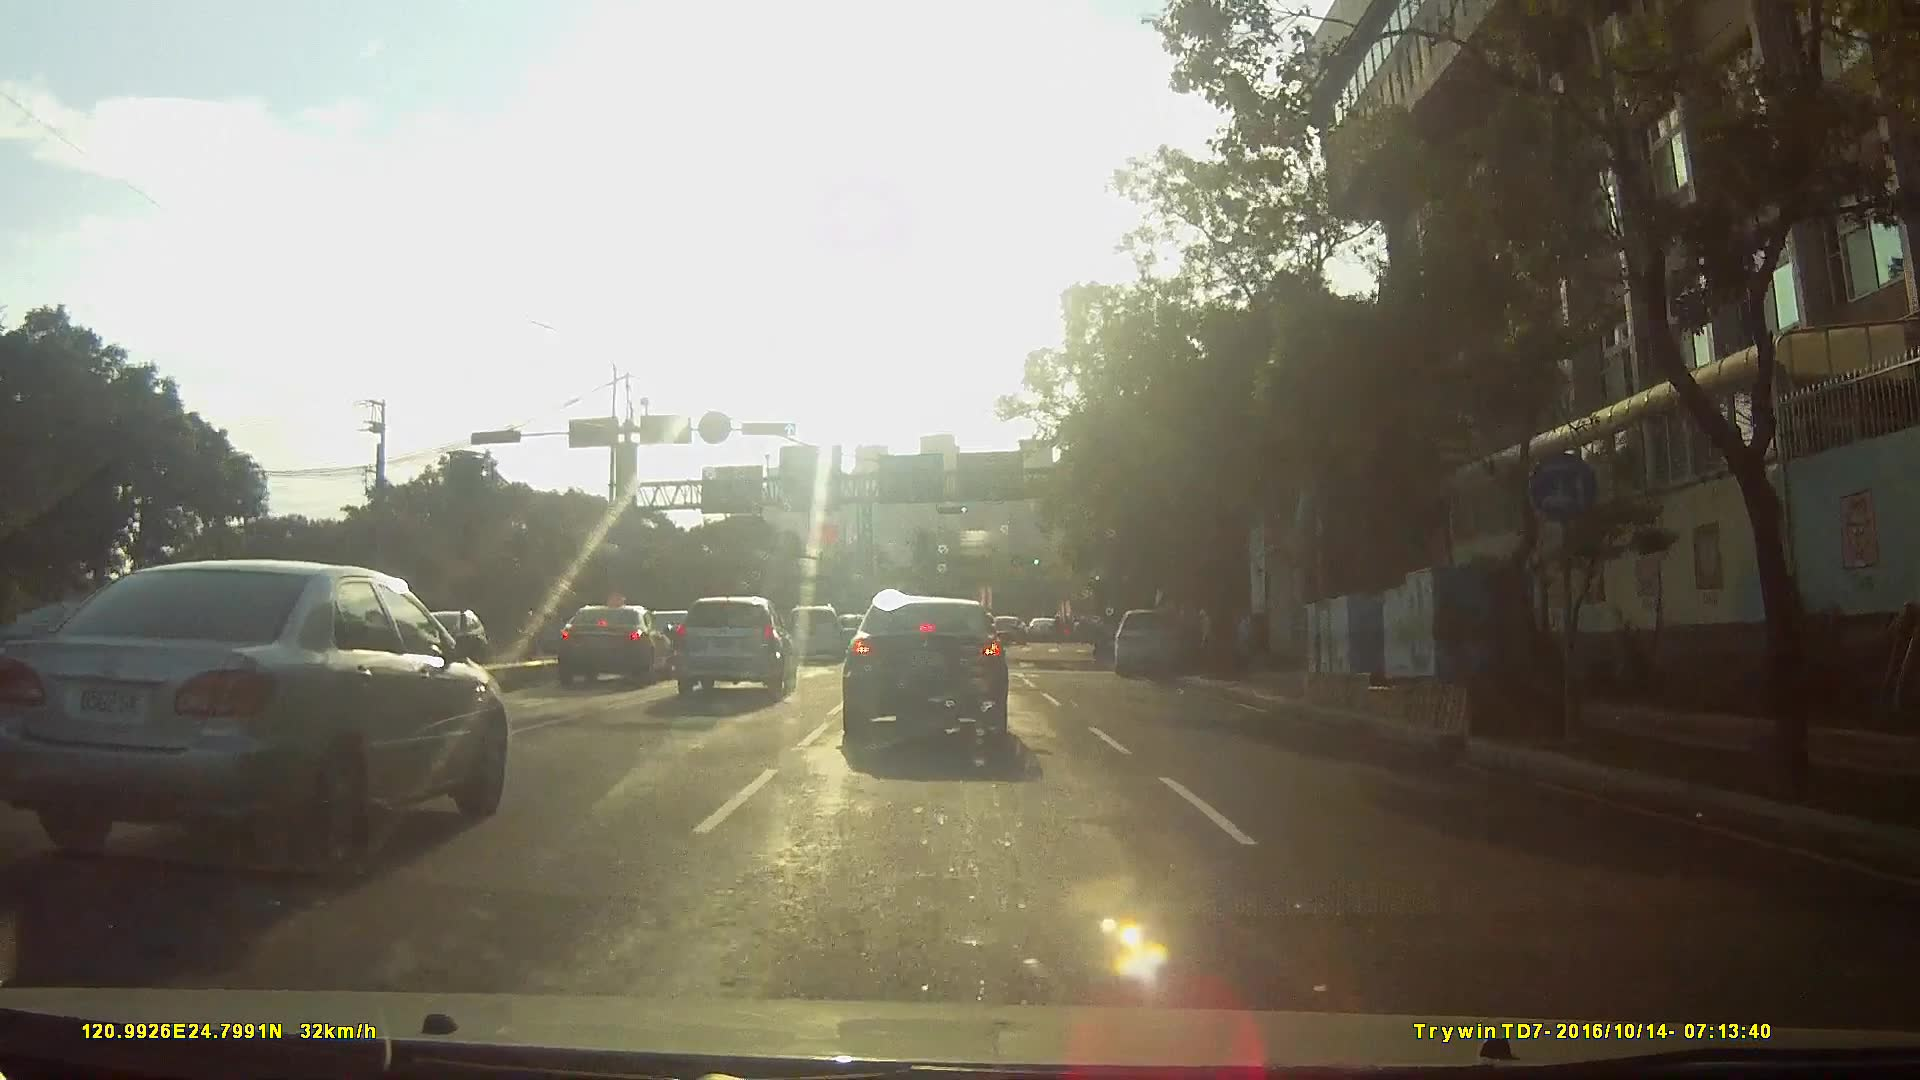pedestrian: (1193, 598, 1213, 658)
vehicle: (1, 547, 522, 885), (831, 602, 1024, 769), (666, 584, 795, 692), (534, 594, 658, 683), (409, 603, 498, 675), (1115, 596, 1195, 670), (780, 593, 848, 654), (990, 607, 1029, 639), (1025, 606, 1067, 634)
